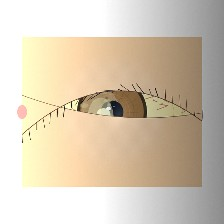corneal_ulcer: (71, 92, 130, 139)
